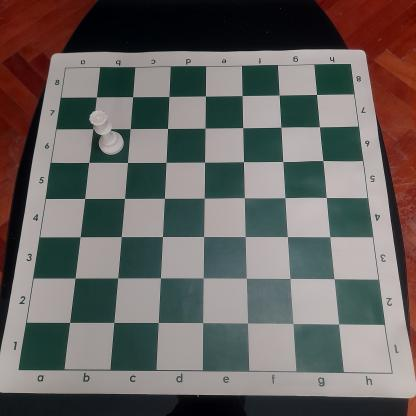white-queen: (87, 109, 126, 156)
